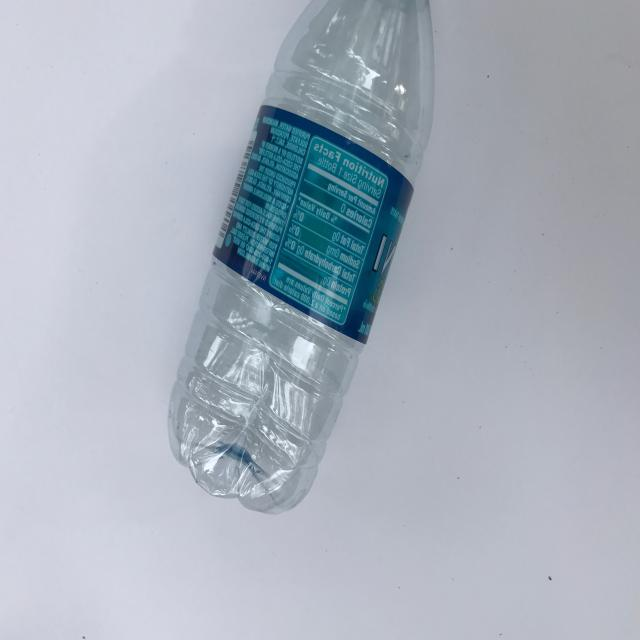plastic: (167, 0, 436, 515)
